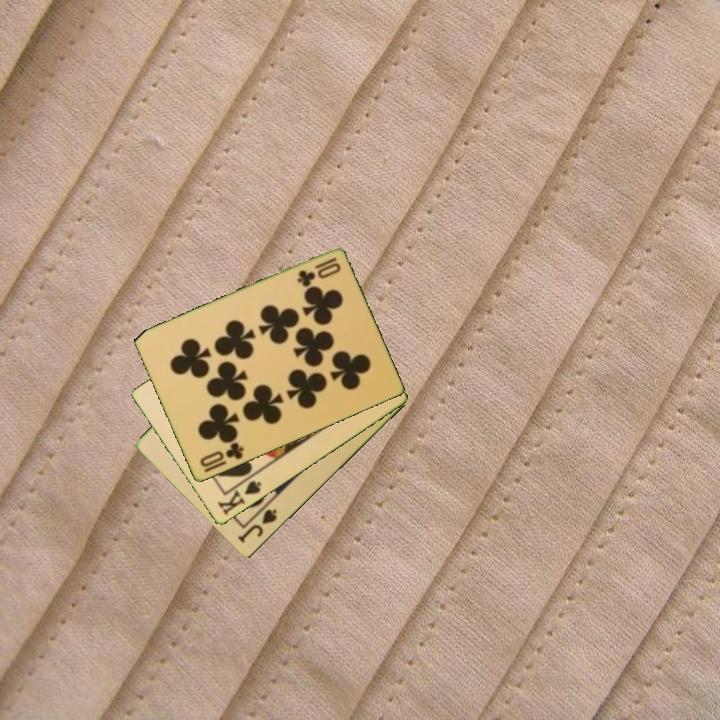10c: (293, 254, 340, 289), (196, 439, 247, 471)
Js: (234, 506, 280, 546)
Ks: (214, 472, 264, 519)
